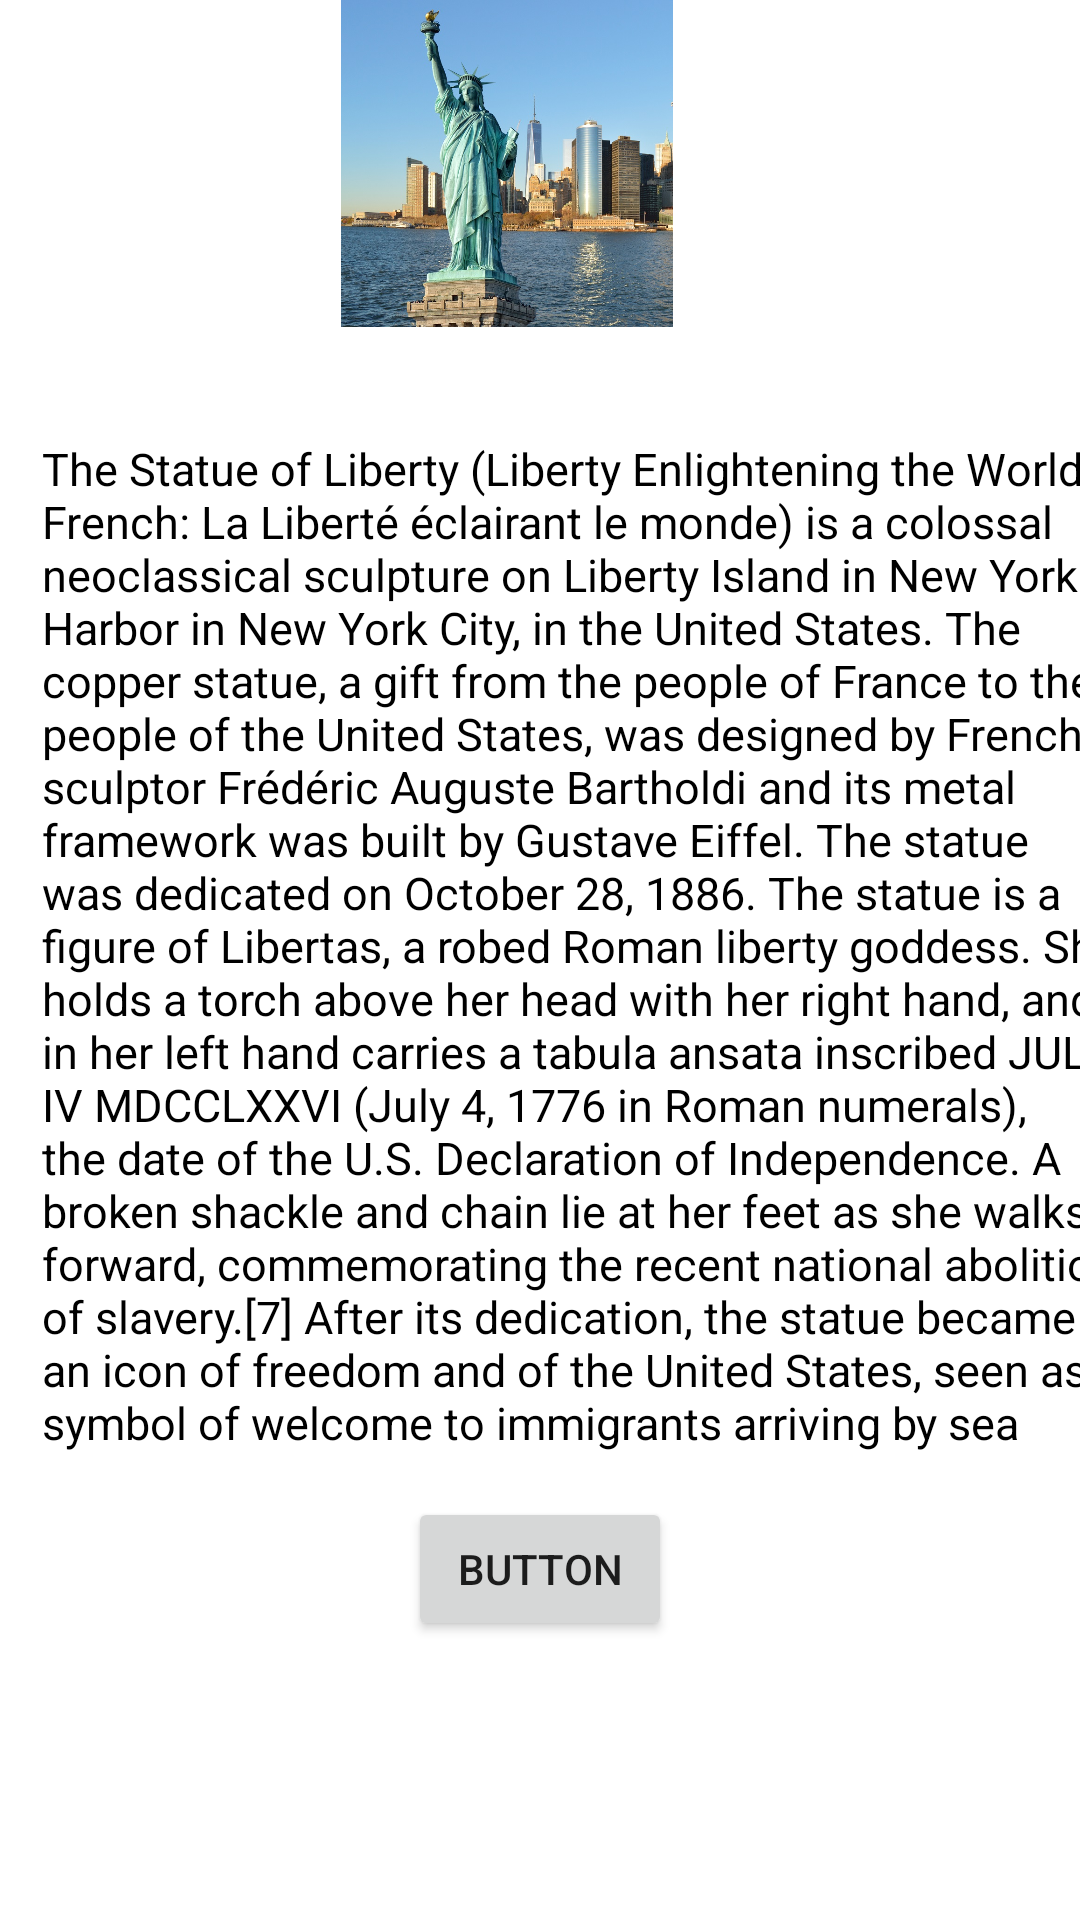

Where to tap for icons on this 1080px x 1920px app screen, as (x=x, y=y):
freadom: (x=507, y=163)
